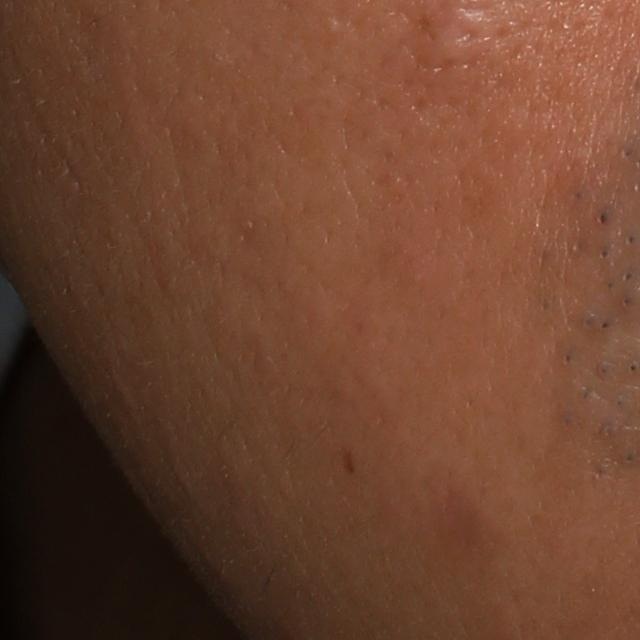hypertrophic_scar: (419, 3, 505, 69)
nevus: (338, 445, 358, 477)
